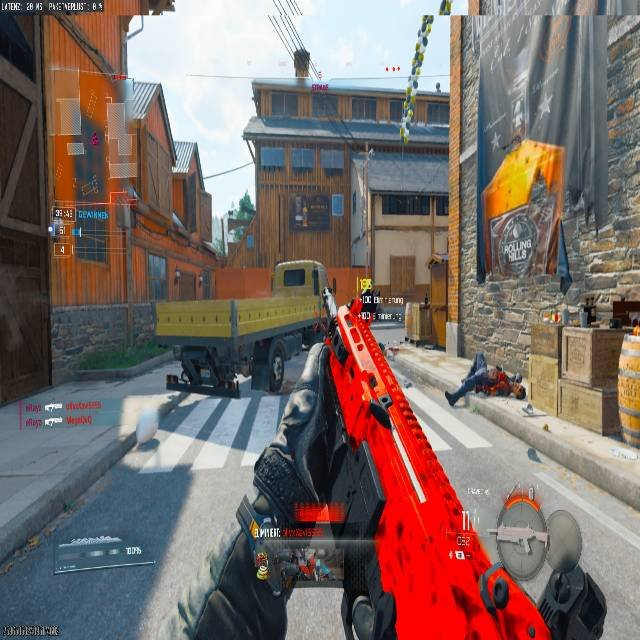head: (511, 384, 525, 399)
player: (353, 286, 381, 342)
